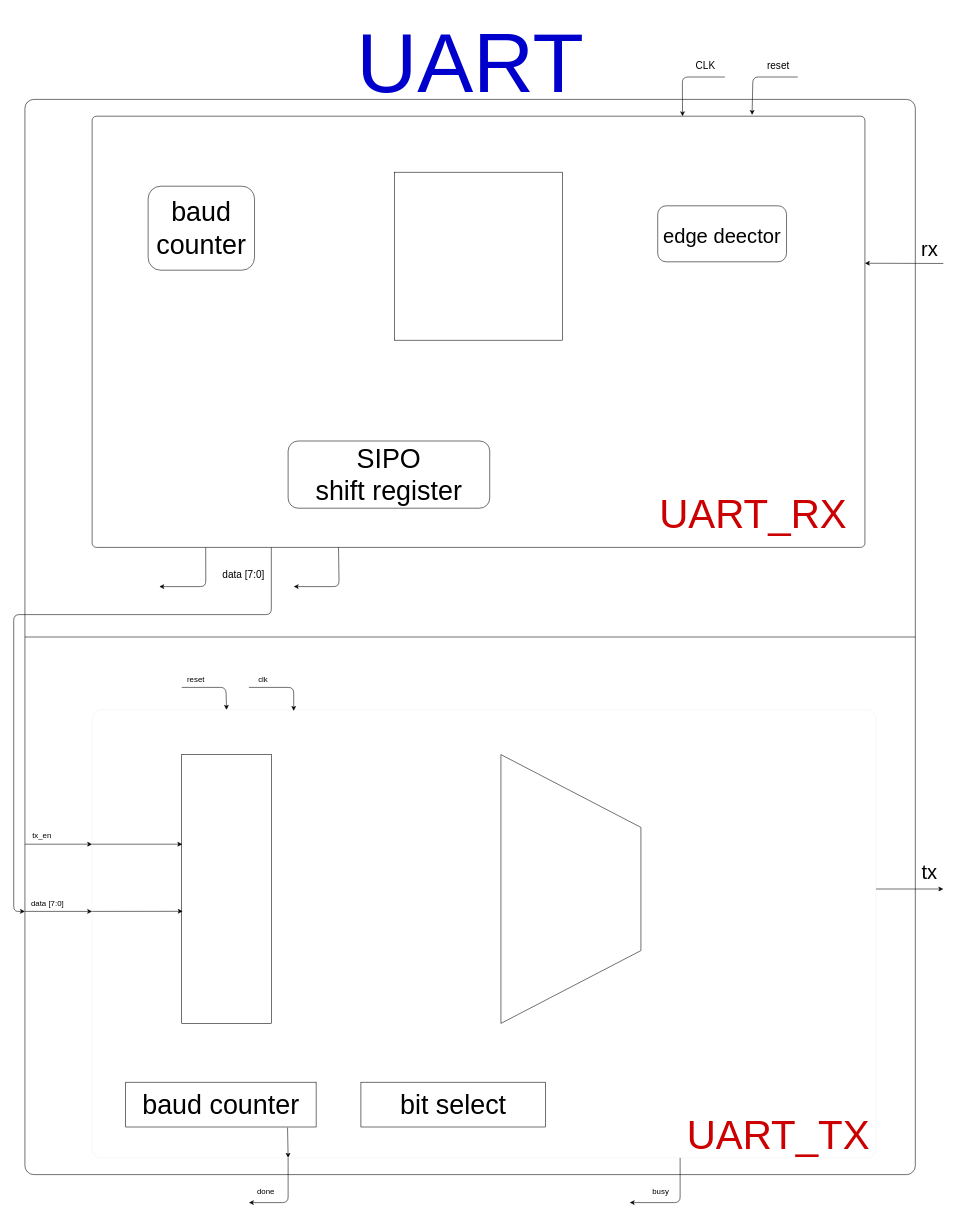
Image size: 958x1217. Some labels were removed from this diagram. Each missing label, with the centre of its shape:
"frame" belongs at point 226,888.
"FSM" belongs at point 478,256.
"multiplexer" belongs at point 570,888.
